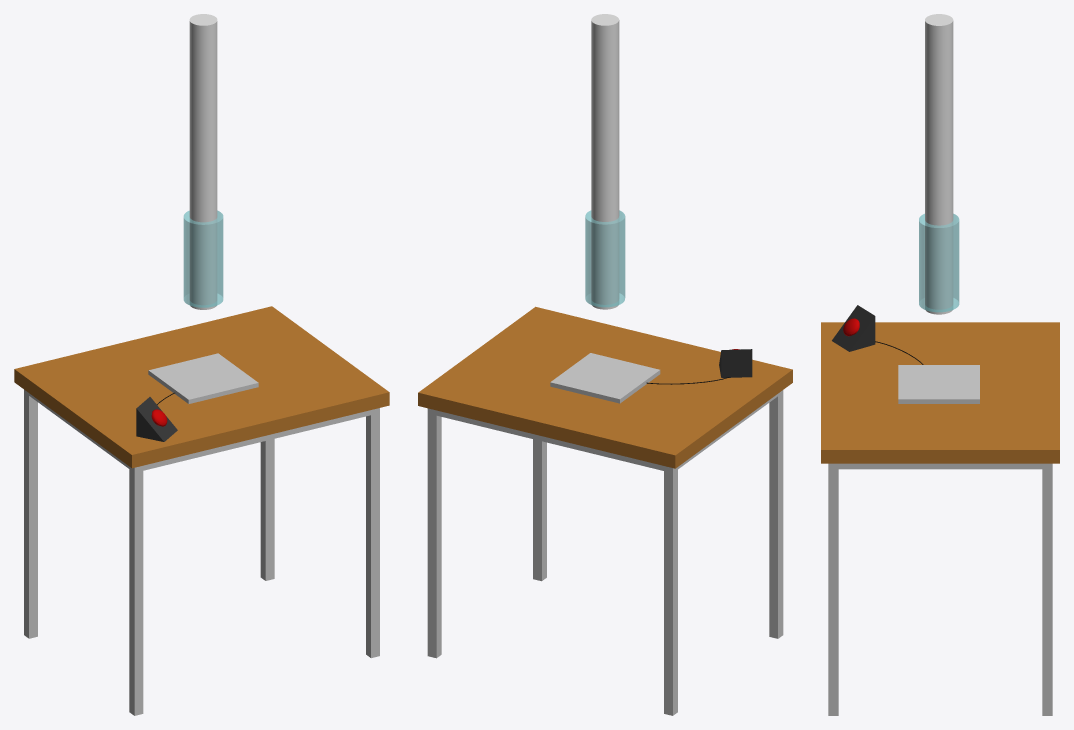
The model's file is BeerTester.fbx.
3 renders of one model, left to right at view 1: azimuth 30°, elevation 25°; view 2: azimuth 150°, elevation 25°; view 3: azimuth 270°, elevation 25°, orthographic.
Visible parts, largest first — view 1: Cylinder, Glass; view 2: Cylinder, Glass; view 3: Cylinder, Glass.
Boxes of the visible parts, <box> form: Cylinder: <box>14,14,389,715</box>; Glass: <box>183,210,223,307</box>; Cylinder: <box>418,14,792,715</box>; Glass: <box>585,210,625,307</box>; Cylinder: <box>821,14,1059,715</box>; Glass: <box>919,213,959,312</box>.
Size of the model in its own units: 74.54 by 173 by 58.9.
